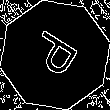P_SE: (24, 26, 86, 84)
